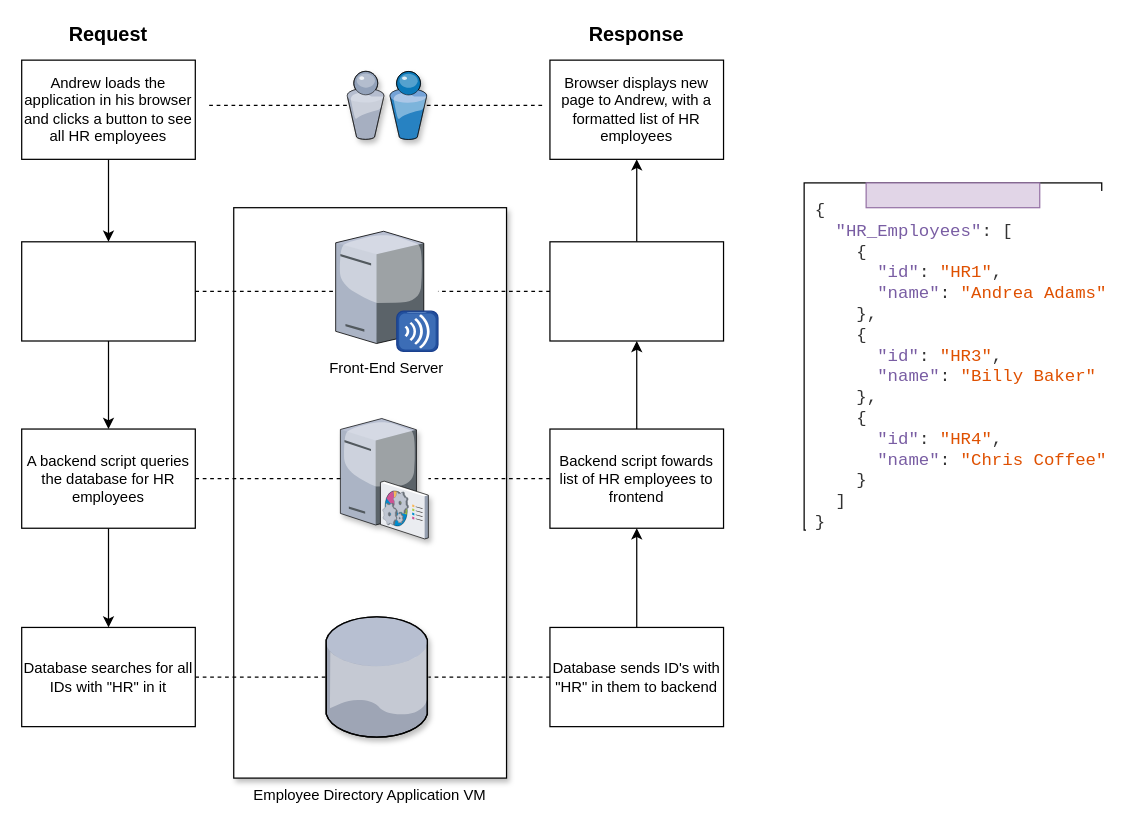
This 1137x825 diagram has some shape labels left out. Here are the shapes that lost their labels. From the top down, the centre of each, then its label:
(x=952, y=195): HTTP response body
(x=107, y=291): Frontend forwards the request to the backend
(x=636, y=291): Frontend prepares a new web page with all of the HR employees listed on it
(x=385, y=480): Back-end Server
(x=378, y=678): Database
